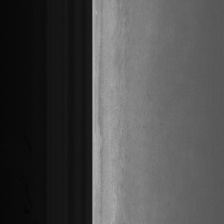silk_spot: (111, 26, 137, 192)
